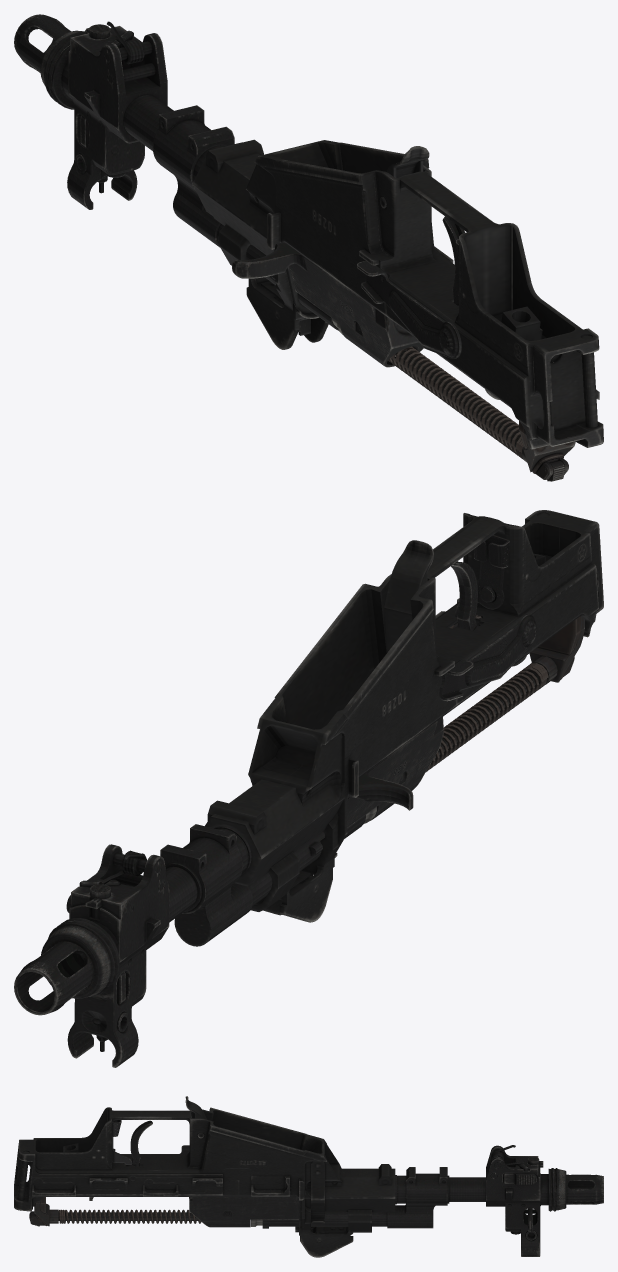
3 views of the same model, one above another, from view 1: azimuth 30°, elevation 25°; view 2: azimuth 150°, elevation 25°; view 3: azimuth 270°, elevation 25° (orthographic). The views are drawn at different scales.
Visible parts, largest first — view 1: TW_651450ce0e00edc794068371_PZ_Import; view 2: TW_651450ce0e00edc794068371_PZ_Import; view 3: TW_651450ce0e00edc794068371_PZ_Import.
Boxes of the visible parts, x1,y1,x2,y2 form: TW_651450ce0e00edc794068371_PZ_Import: [14, 14, 603, 481]; TW_651450ce0e00edc794068371_PZ_Import: [14, 510, 603, 1067]; TW_651450ce0e00edc794068371_PZ_Import: [14, 1096, 603, 1257].
Bounding box in the file's own units: 0.0367 × 0.2401 × 0.07.
Materials: 1 (1 with a texture image).
